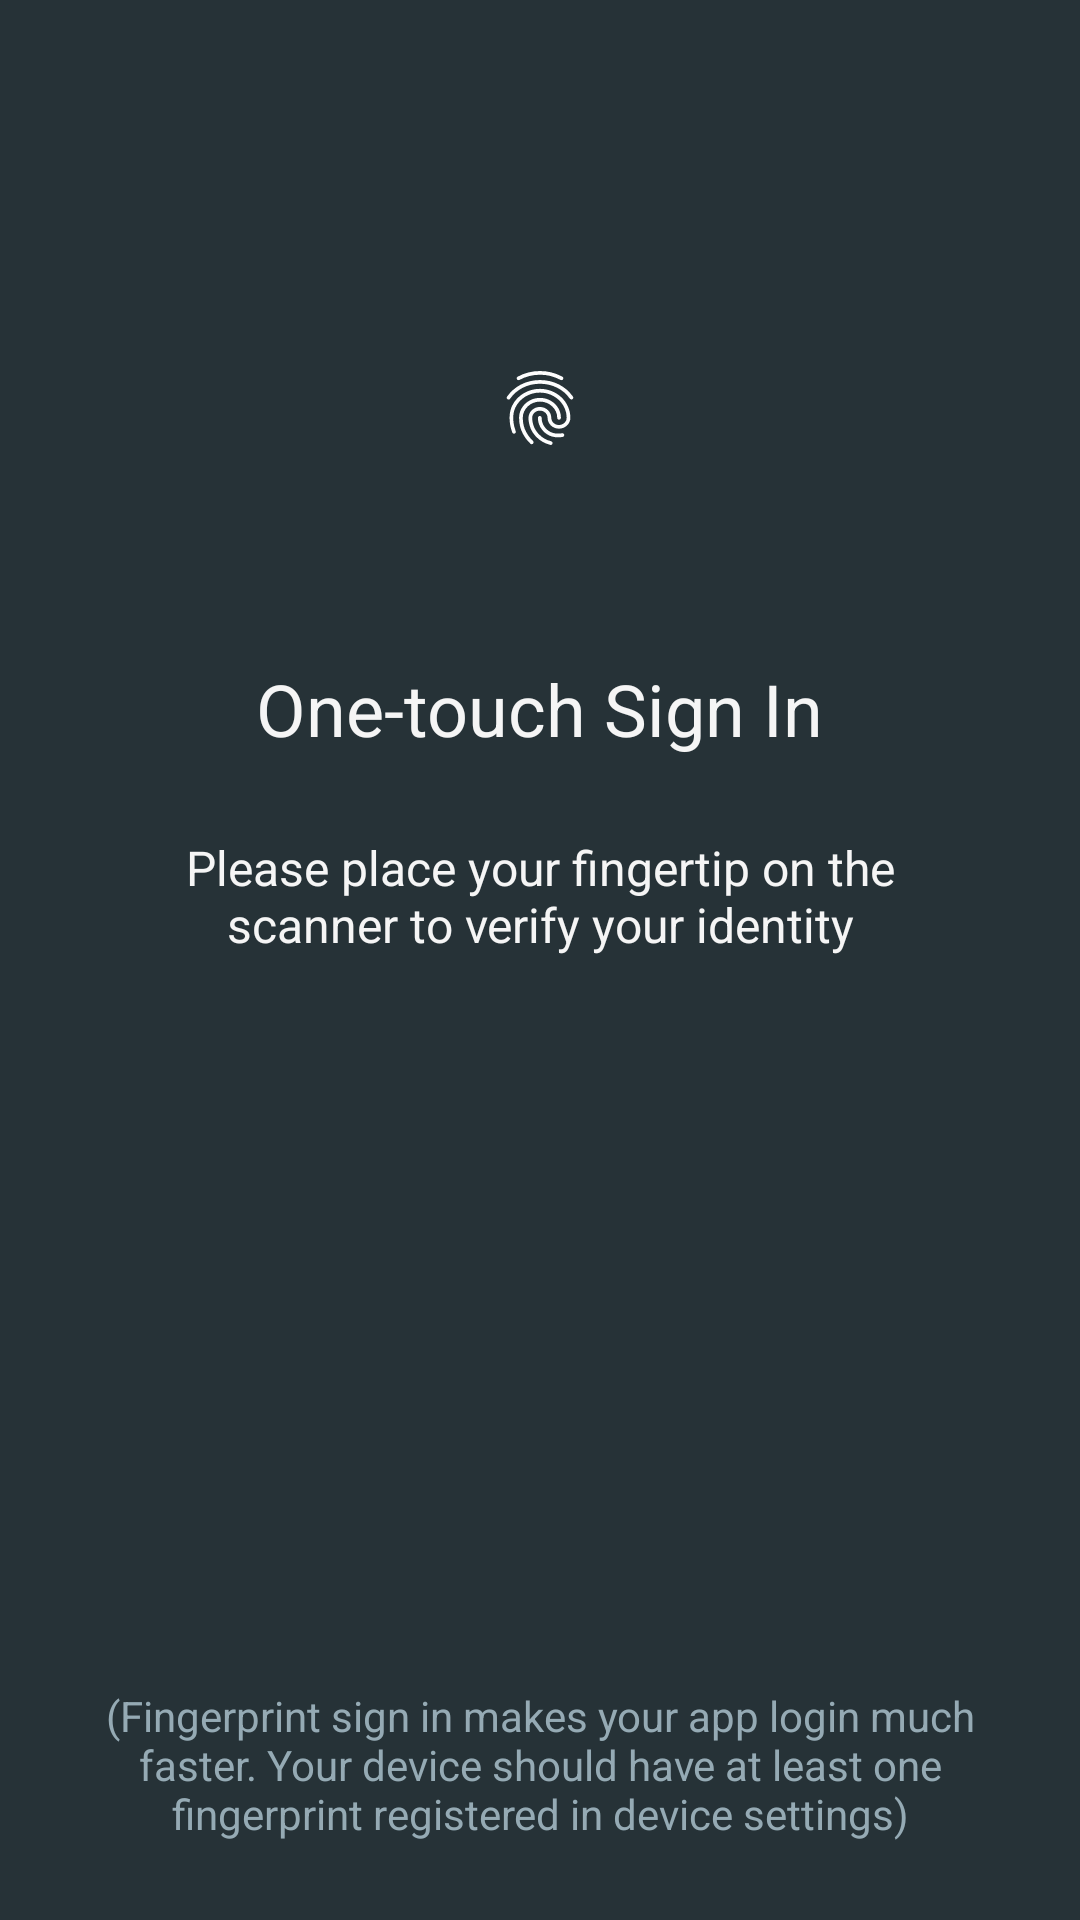

Icons on this 1080x1920 Android screen, each with the point to tap as (x,y):
fingerprint: (540,408)
